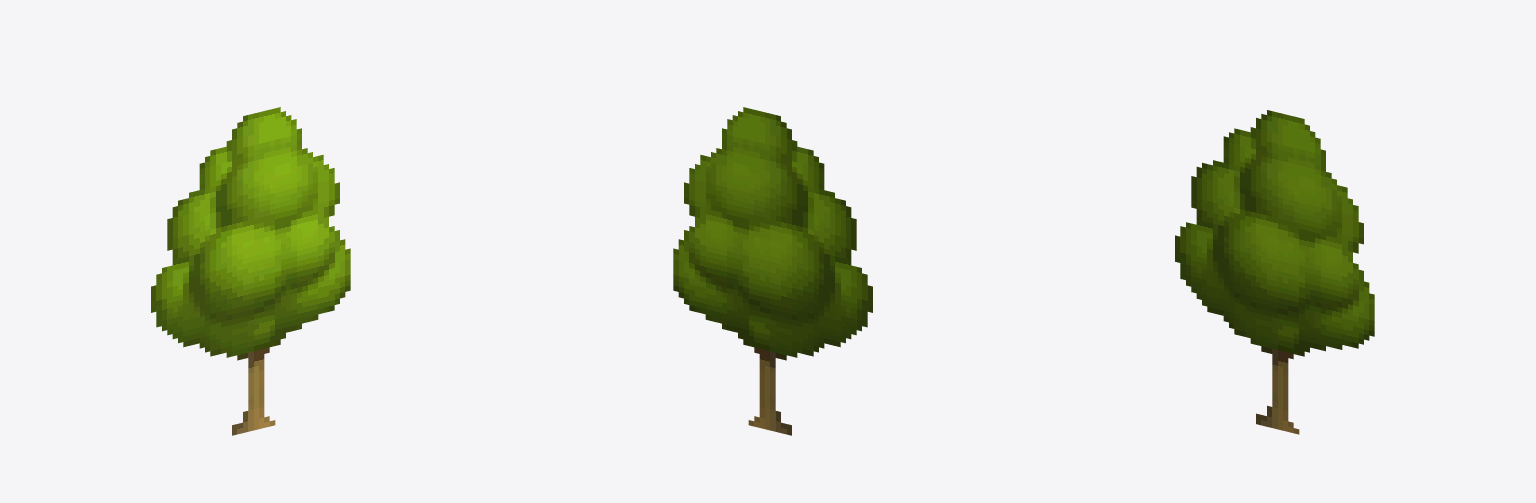
Rendered from bomb_tree.glb.
3 views of the same model, side by side, from view 1: azimuth 30°, elevation 25°; view 2: azimuth 150°, elevation 25°; view 3: azimuth 330°, elevation 25° (orthographic).
Visible parts, largest first — view 1: bomb_tree; view 2: bomb_tree; view 3: bomb_tree.
Part boxes in pixels (box(x1,y1,x2,y2)): bomb_tree: box(151, 107, 350, 435); bomb_tree: box(673, 107, 872, 435); bomb_tree: box(1175, 110, 1374, 434).
Bounding box in the file's own units: 122 × 100 × 0.
1 material, 1 textured.
